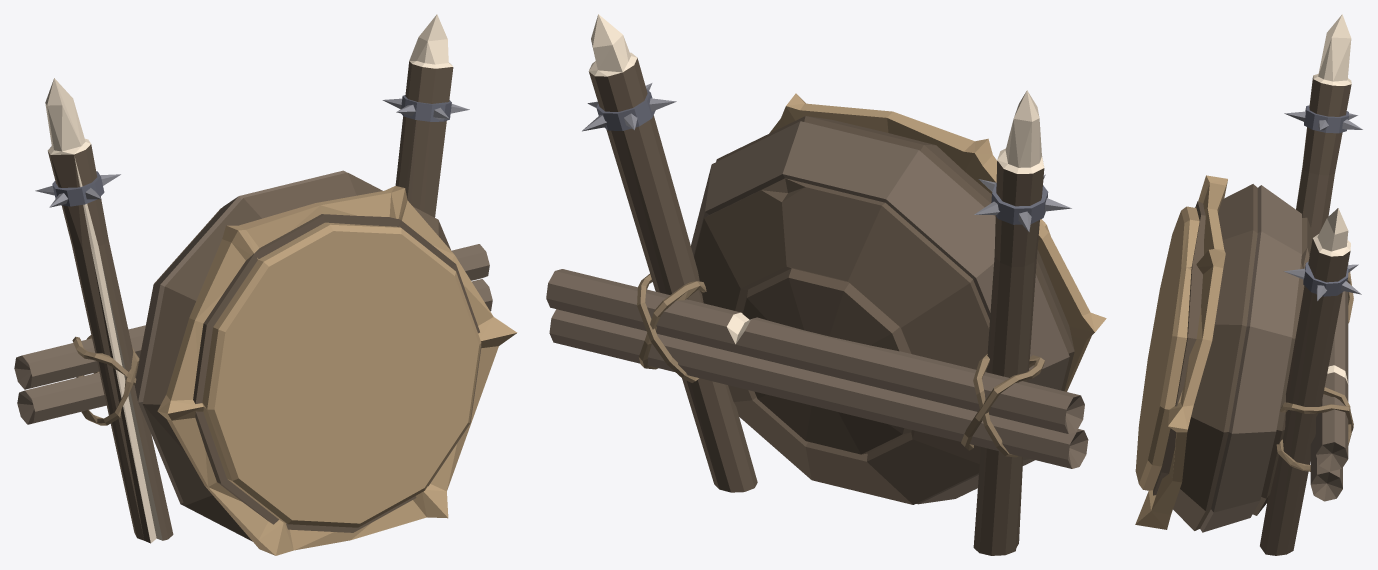
Rendered from _ALARM_DRUM.fbx.
3 renders of one model, left to right at view 1: azimuth 30°, elevation 25°; view 2: azimuth 150°, elevation 25°; view 3: azimuth 270°, elevation 25°, orthographic. The views are drawn at different scales.
Parts seen in each view (by area): view 1: ALARM_DRUM; view 2: ALARM_DRUM; view 3: ALARM_DRUM.
Boxes of the visible parts, bbox=[...] form: ALARM_DRUM: bbox=[14, 14, 517, 555]; ALARM_DRUM: bbox=[546, 14, 1106, 555]; ALARM_DRUM: bbox=[1135, 14, 1362, 555].
Size of the model in its own units: 413 by 389 by 196.
